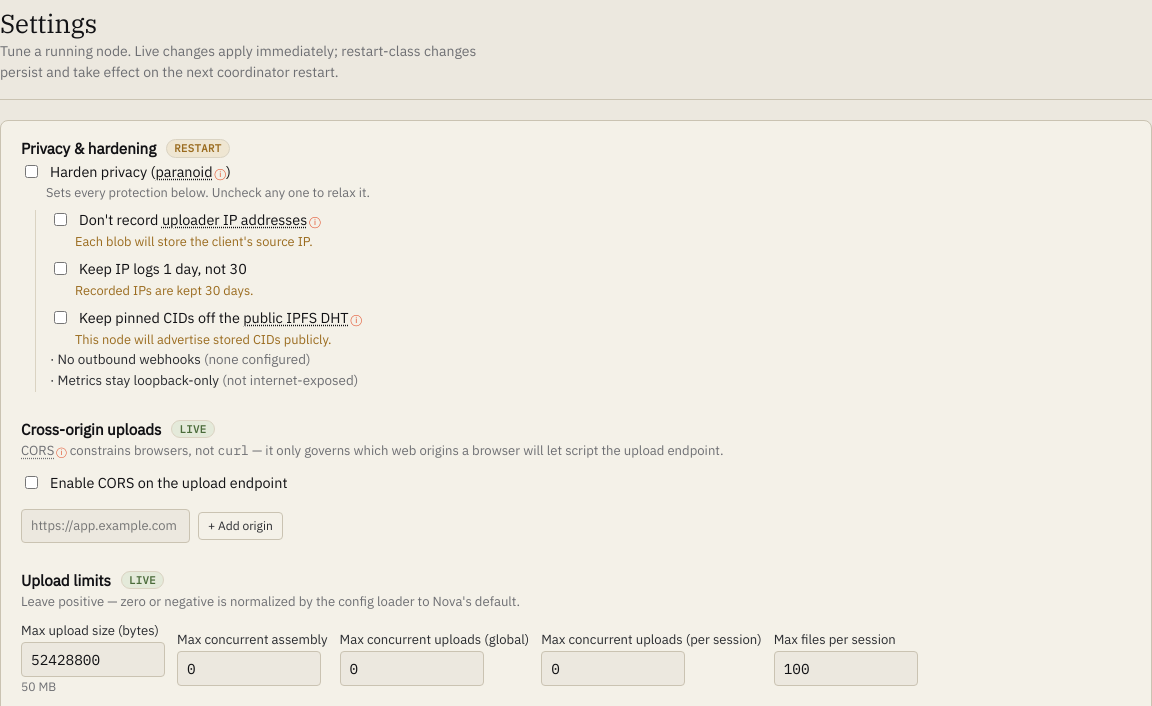
it: SettingsScreen › surfaces a 409 as a conflict banner
Replace the text in the number field labelled "Max files per session" with "50": (846, 668) 774,651 -> 918,686
(page scrolled)
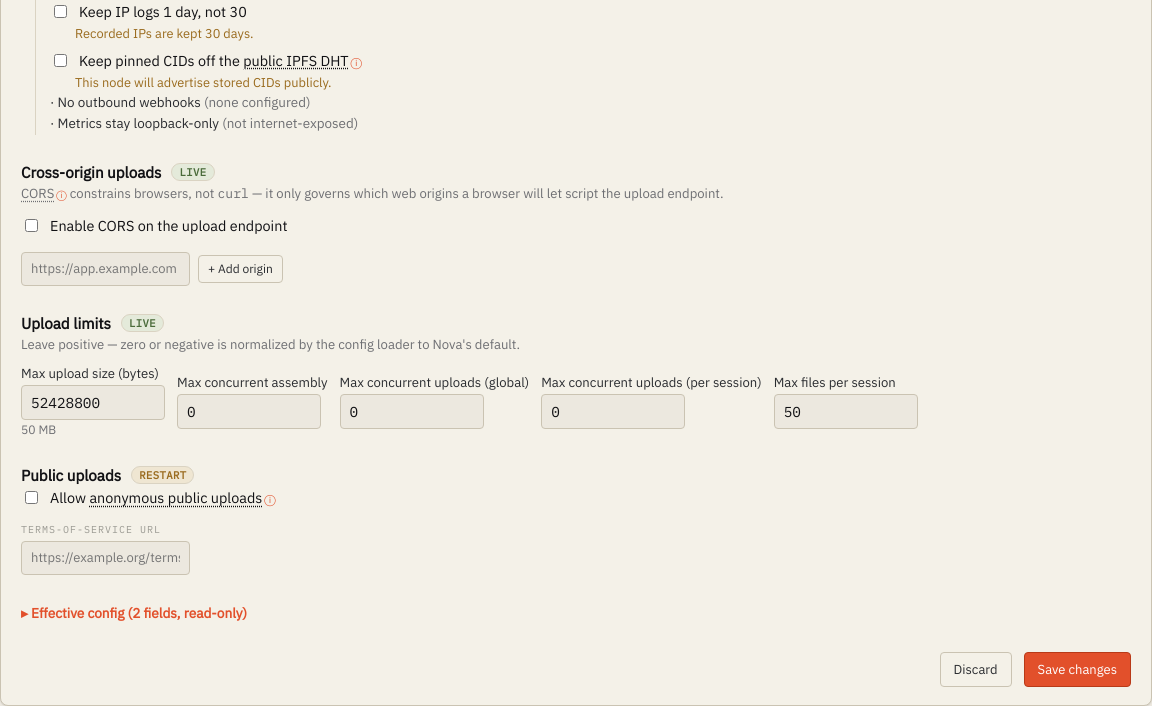
Click the button "Save changes": (1077, 670) 1024,652 -> 1131,688
(page scrolled)
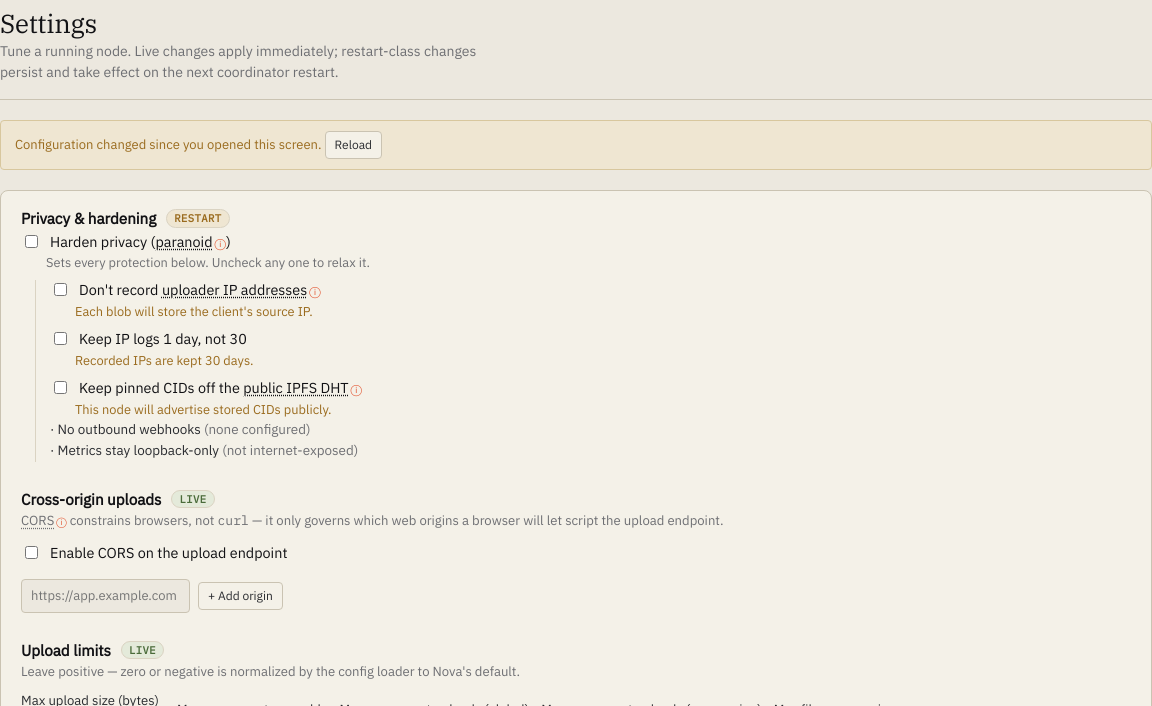
Now the text "Configuration changed since you opened this screen. Reload" is shown, box 0,120 -> 1151,170
